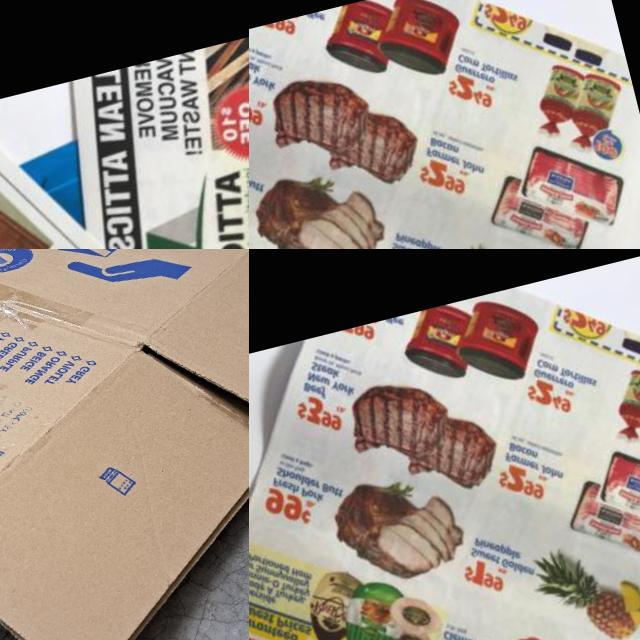papel: (249, 249, 640, 640), (249, 0, 640, 249), (0, 0, 249, 249)
papelão: (0, 249, 249, 640)
